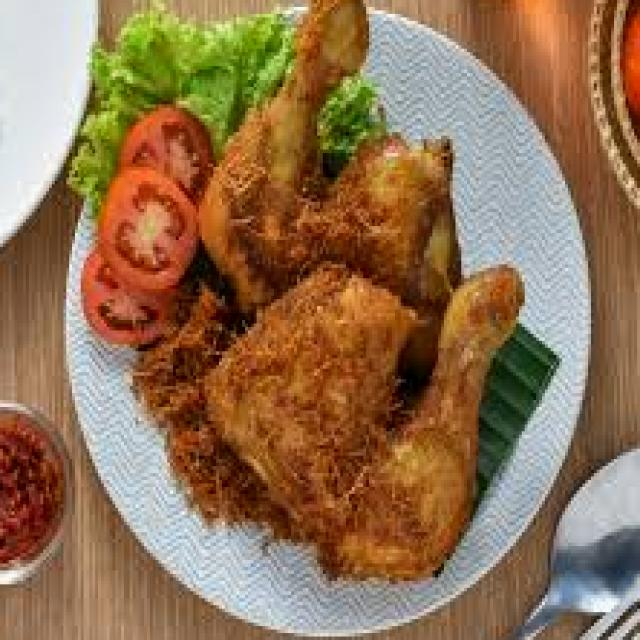ayam_goreng: (188, 0, 536, 595), (225, 281, 490, 573), (216, 0, 438, 292)
